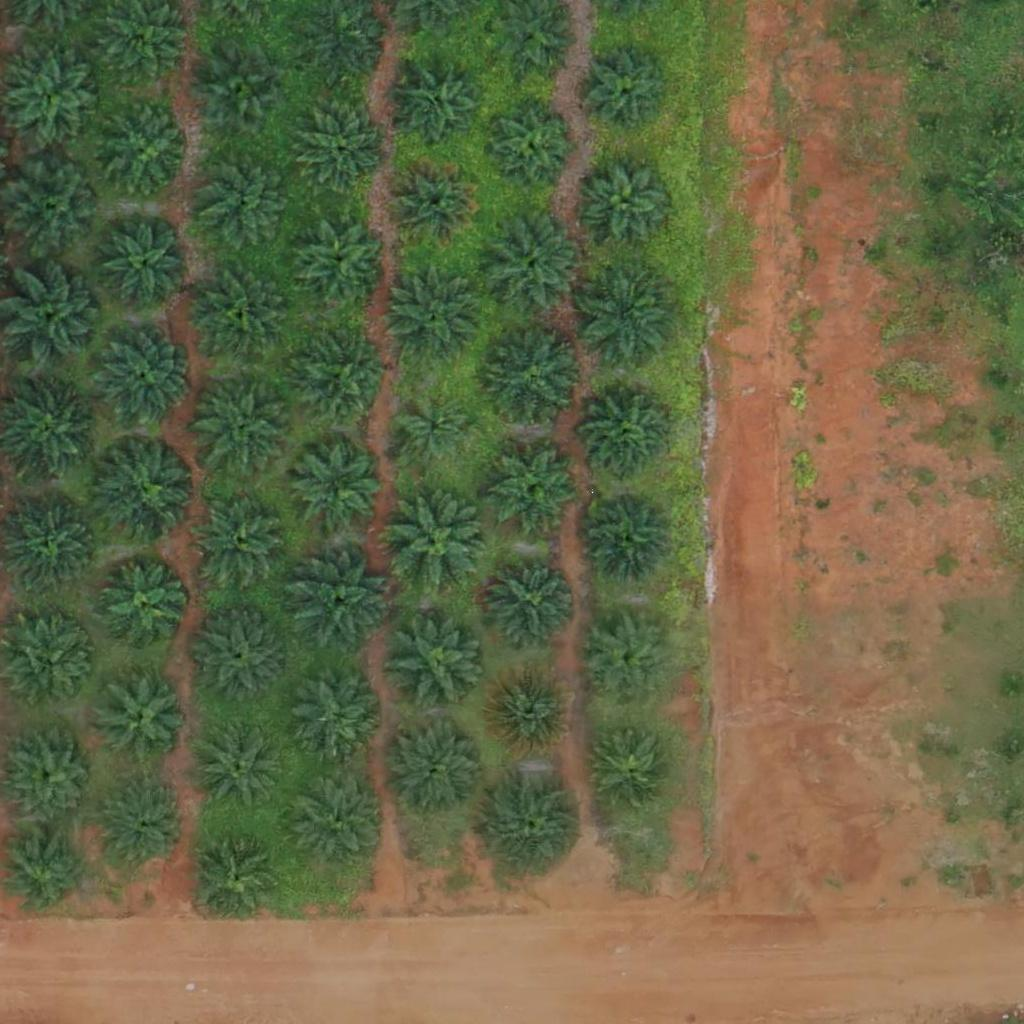Kelapa_Sawit: (390, 493, 490, 594), (290, 213, 390, 314), (291, 329, 391, 430), (289, 553, 389, 654), (196, 149, 296, 250), (193, 266, 293, 367), (192, 375, 292, 476), (191, 492, 291, 593), (189, 608, 289, 709), (92, 326, 192, 427), (97, 439, 197, 540), (2, 157, 102, 258), (286, 766, 386, 867), (388, 614, 488, 715), (386, 718, 486, 819), (485, 772, 585, 873), (575, 263, 675, 363), (480, 215, 580, 315), (482, 329, 582, 429), (385, 267, 485, 367), (2, 726, 102, 826), (199, 49, 287, 137), (584, 48, 672, 136), (585, 158, 673, 246), (492, 445, 580, 533), (486, 555, 574, 643), (299, 105, 387, 193), (99, 563, 187, 651), (99, 676, 187, 764), (101, 782, 189, 870), (197, 722, 285, 810), (194, 832, 282, 920), (486, 666, 574, 754), (591, 729, 679, 817), (8, 55, 95, 143), (395, 62, 482, 150), (585, 395, 672, 483), (586, 492, 673, 580), (585, 618, 672, 706), (487, 101, 574, 189), (391, 159, 478, 247), (294, 441, 381, 529), (99, 108, 186, 196), (102, 223, 189, 311), (5, 622, 92, 710), (2, 829, 89, 917), (301, 669, 388, 757), (397, 395, 472, 471)
